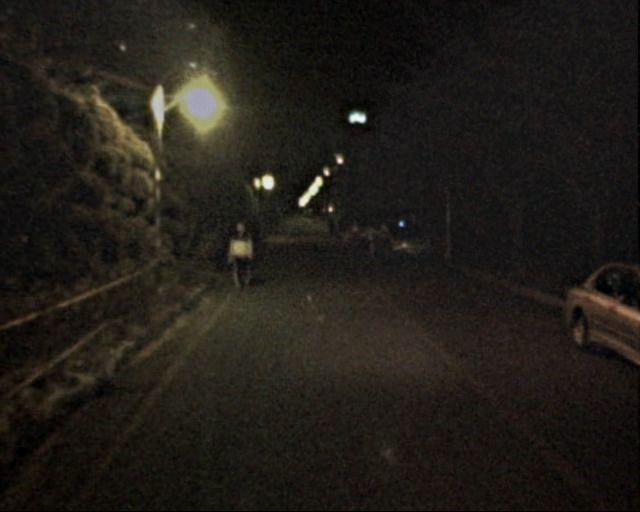person: (226, 218, 256, 292), (365, 223, 381, 263), (329, 219, 348, 243)
